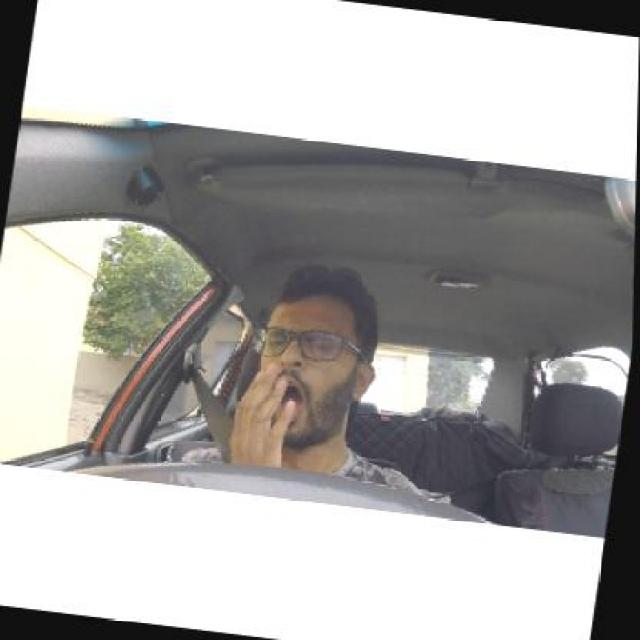drowsy: (234, 236, 395, 498)
